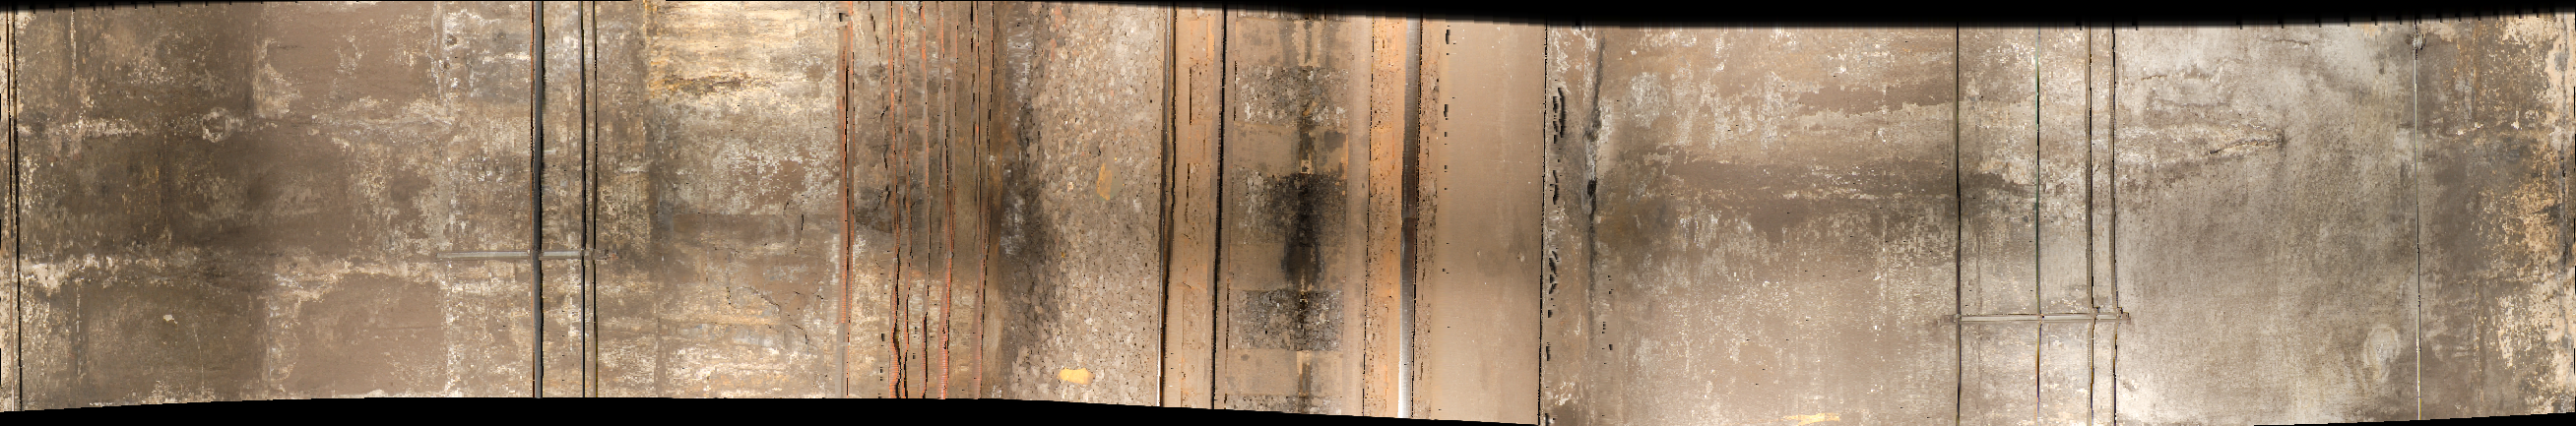pipes: (836, 7, 1007, 424), (521, 5, 603, 403), (2081, 26, 2127, 426), (1943, 26, 1980, 426), (2026, 25, 2052, 426)
tracks: (1161, 2, 1434, 426)
